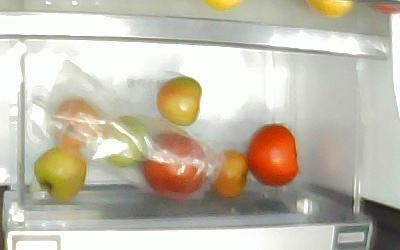tomato: (246, 124, 299, 187), (33, 147, 86, 203), (156, 76, 202, 126), (211, 150, 247, 197)
tomato_vinyl: (143, 133, 207, 196), (102, 116, 149, 167), (53, 99, 98, 152)
